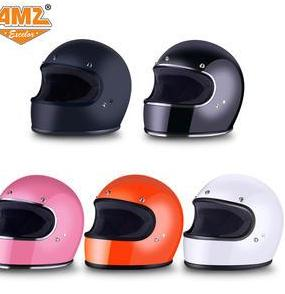with_helmet: (183, 172, 282, 277), (31, 37, 132, 138), (143, 38, 243, 139), (85, 171, 183, 271), (1, 171, 86, 268)
